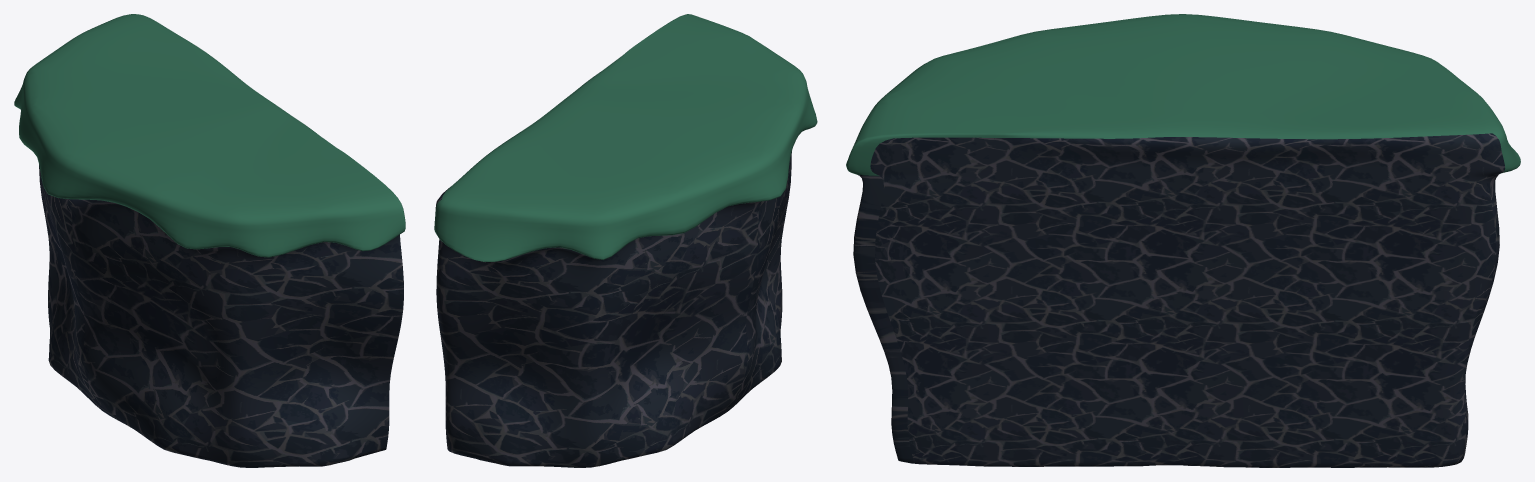
The model's file is TopSide.fbx.
3 views of the same model, side by side, from view 1: azimuth 30°, elevation 25°; view 2: azimuth 150°, elevation 25°; view 3: azimuth 270°, elevation 25° (orthographic). The views are drawn at different scales.
Parts seen in each view (by area): view 1: pCube3; view 2: pCube3; view 3: pCube3.
Boxes of the visible parts, box(x1,y1,x2,y2) form: pCube3: box(14, 14, 405, 467); pCube3: box(434, 14, 817, 467); pCube3: box(846, 14, 1520, 467).
Bounding box in the file's own units: 6.18 × 7.07 × 12.85.
2 materials, 1 textured.
